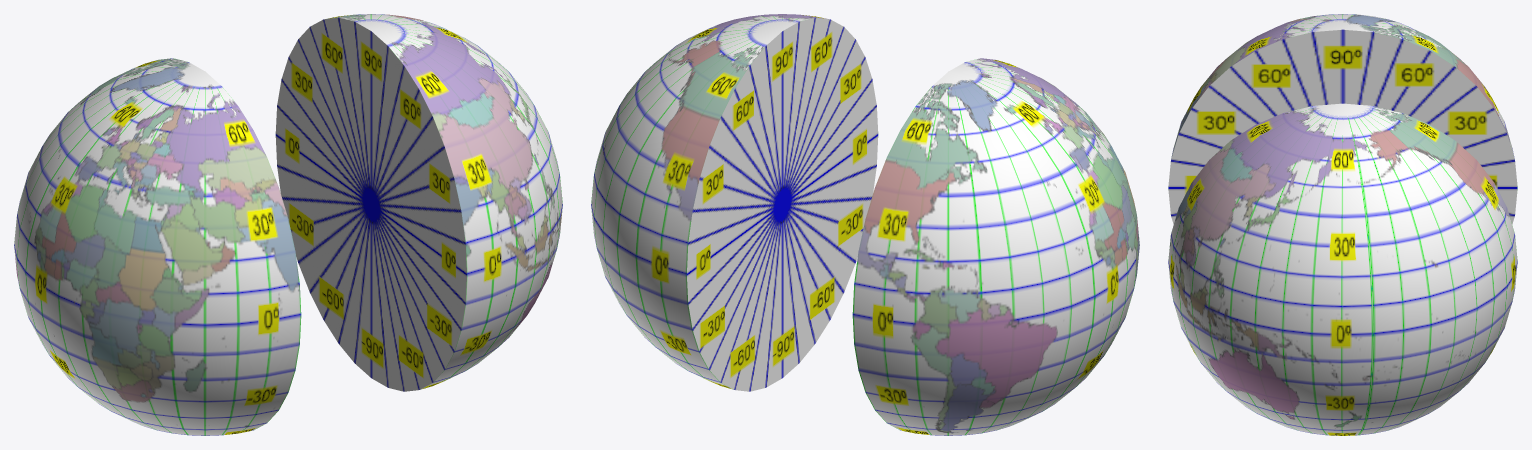
Rendered from Lat_Long_Sphere.FBX.
3 renders of one model, left to right at view 1: azimuth 30°, elevation 25°; view 2: azimuth 150°, elevation 25°; view 3: azimuth 270°, elevation 25°, orthographic. The views are drawn at different scales.
Parts seen in each view (by area): view 1: polySurface1; view 2: polySurface1; view 3: polySurface1.
Part boxes in pixels (x1,y1,x2,y2): polySurface1: (14, 14, 562, 435); polySurface1: (591, 14, 1139, 435); polySurface1: (1168, 14, 1517, 435).
Bounding box in the file's own units: 24 × 16 × 16.
1 material, 1 textured.
